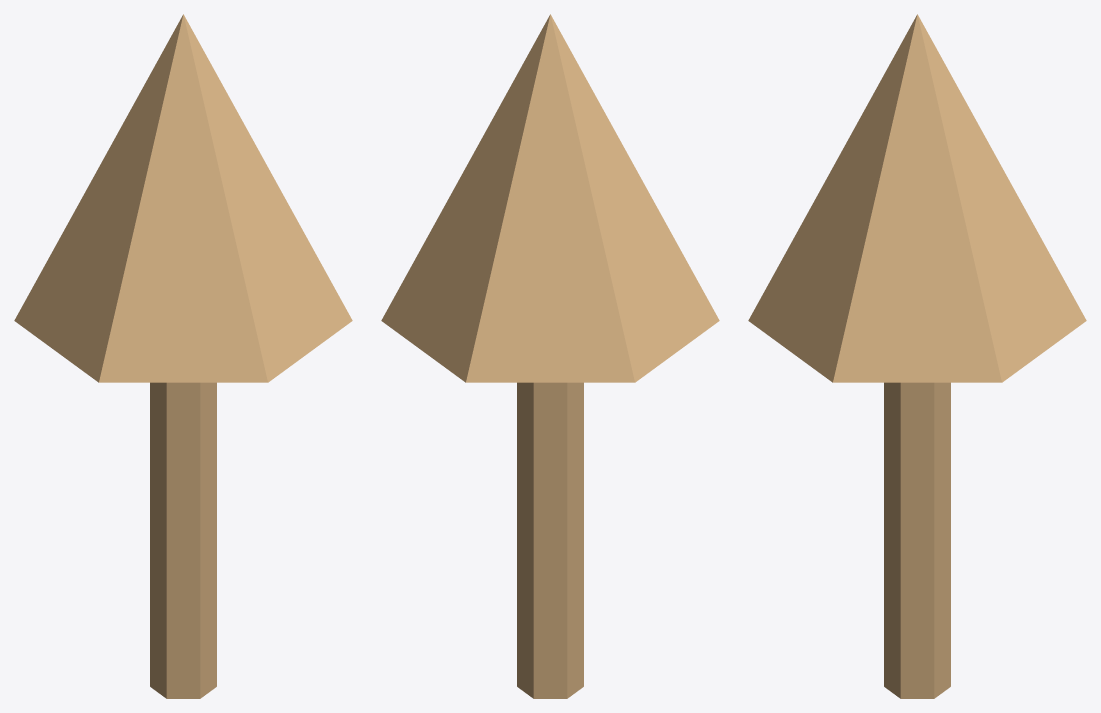
The model's file is mushroom.fbx.
The picture shows the model from 3 angles, left to right: view 1: azimuth 30°, elevation 25°; view 2: azimuth 150°, elevation 25°; view 3: azimuth 270°, elevation 25°; orthographic projection.
Parts seen in each view (by area): view 1: mushroom; view 2: mushroom; view 3: mushroom.
Part boxes in pixels (x1=…): mushroom: x1=14, y1=14, x2=352, y2=698; mushroom: x1=381, y1=14, x2=719, y2=698; mushroom: x1=748, y1=14, x2=1086, y2=698.
Size of the model in its own units: 0.1313 by 0.3325 by 0.1517.
